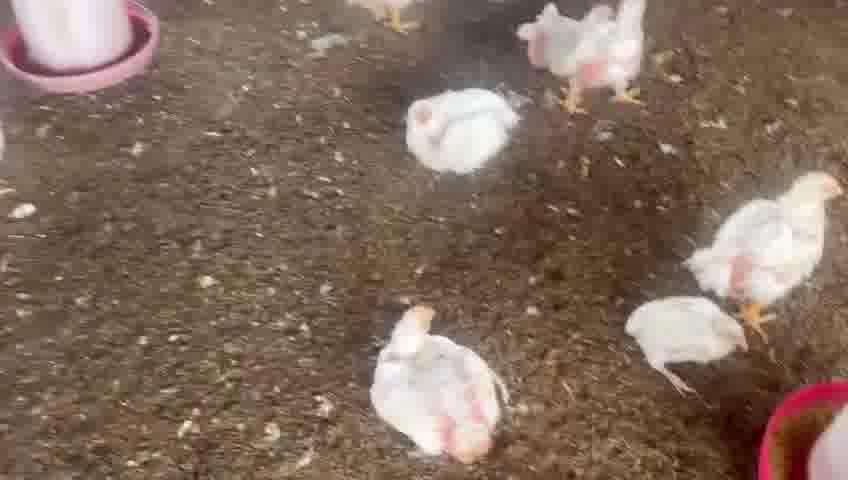AbNormal: (370, 303, 508, 462), (626, 295, 748, 398), (406, 88, 515, 178)
Normal: (711, 173, 846, 326), (519, 2, 650, 114)
